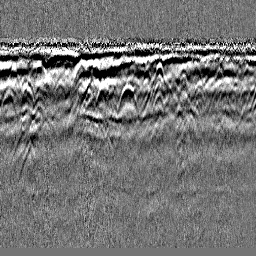cavity: (116, 80, 138, 118)
